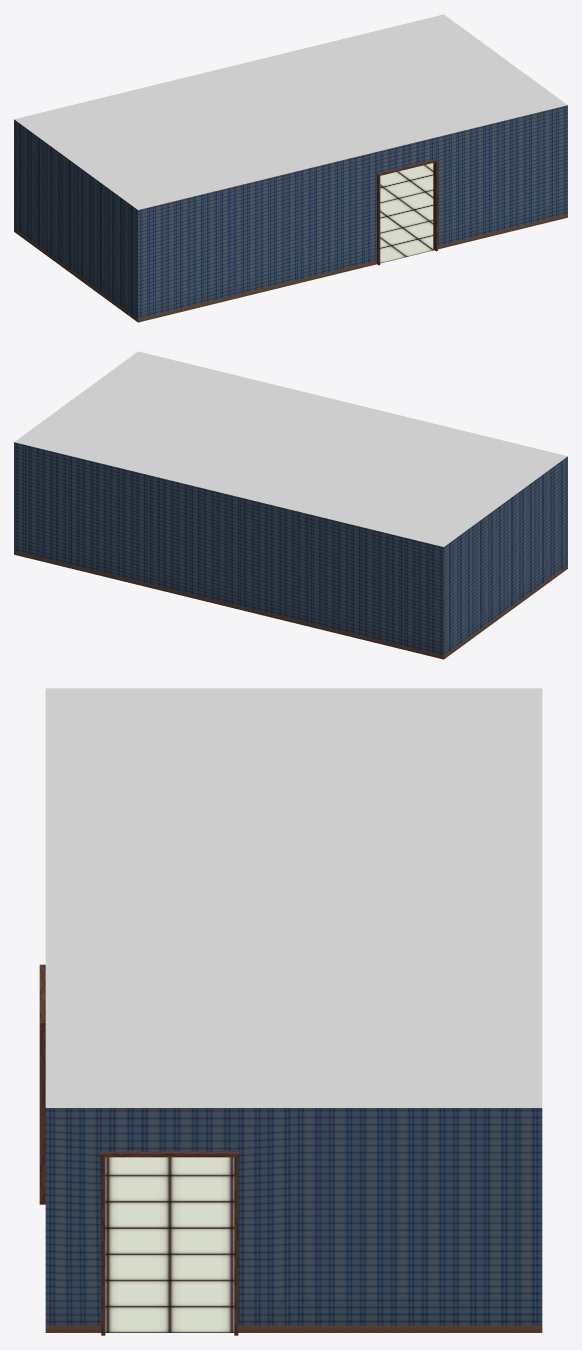
Rendered from 2x4room_kitchen.fbx.
3 renders of one model, top to bottom at view 1: azimuth 30°, elevation 25°; view 2: azimuth 150°, elevation 25°; view 3: azimuth 270°, elevation 25°, orthographic. The views are drawn at different scales.
Parts seen in each view (by area): view 1: 2x4 Room "Kitchen"; view 2: 2x4 Room "Kitchen"; view 3: 2x4 Room "Kitchen".
Boxes of the visible parts, x1,y1,x2,y2 form: 2x4 Room "Kitchen": [14, 14, 567, 322]; 2x4 Room "Kitchen": [14, 351, 567, 659]; 2x4 Room "Kitchen": [39, 688, 542, 1335].
Bounding box in the file's own units: 1258 × 313 × 632.
Materials: 5 (4 with a texture image).
